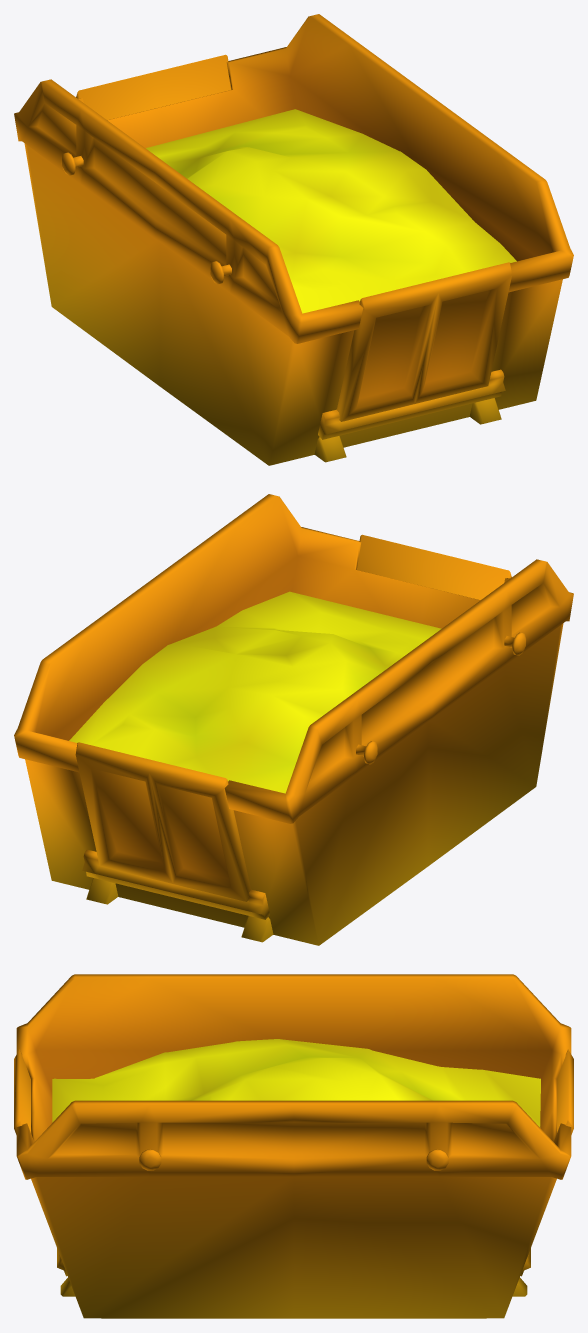
Rendered from SkipRed.glb.
The picture shows the model from 3 angles, top to bottom: view 1: azimuth 30°, elevation 25°; view 2: azimuth 150°, elevation 25°; view 3: azimuth 270°, elevation 25°; orthographic projection. The views are drawn at different scales.
Parts seen in each view (by area): view 1: SkipRed; view 2: SkipRed; view 3: SkipRed.
Boxes of the visible parts, x1,y1,x2,y2 form: SkipRed: (14,14,573,465); SkipRed: (14,494,573,945); SkipRed: (14,974,573,1318).
Bounding box in the file's own units: 3.34 × 2.3 × 5.4.
Materials: 2 (2 with a texture image).
